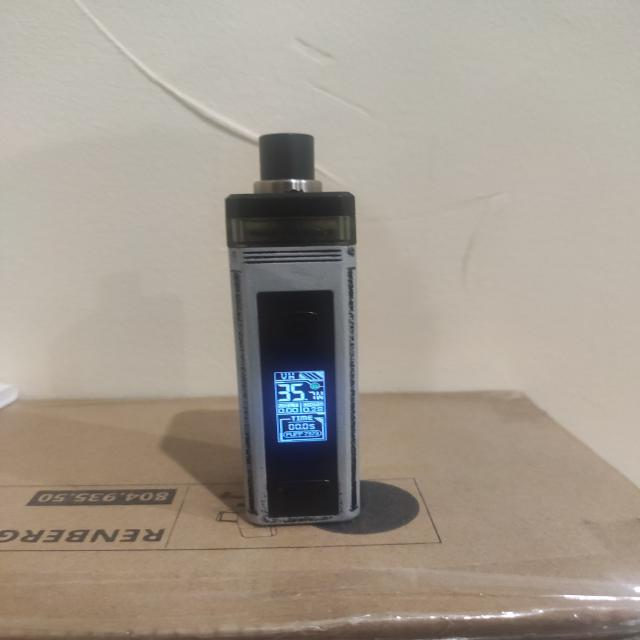cigaret: (221, 121, 364, 528)
